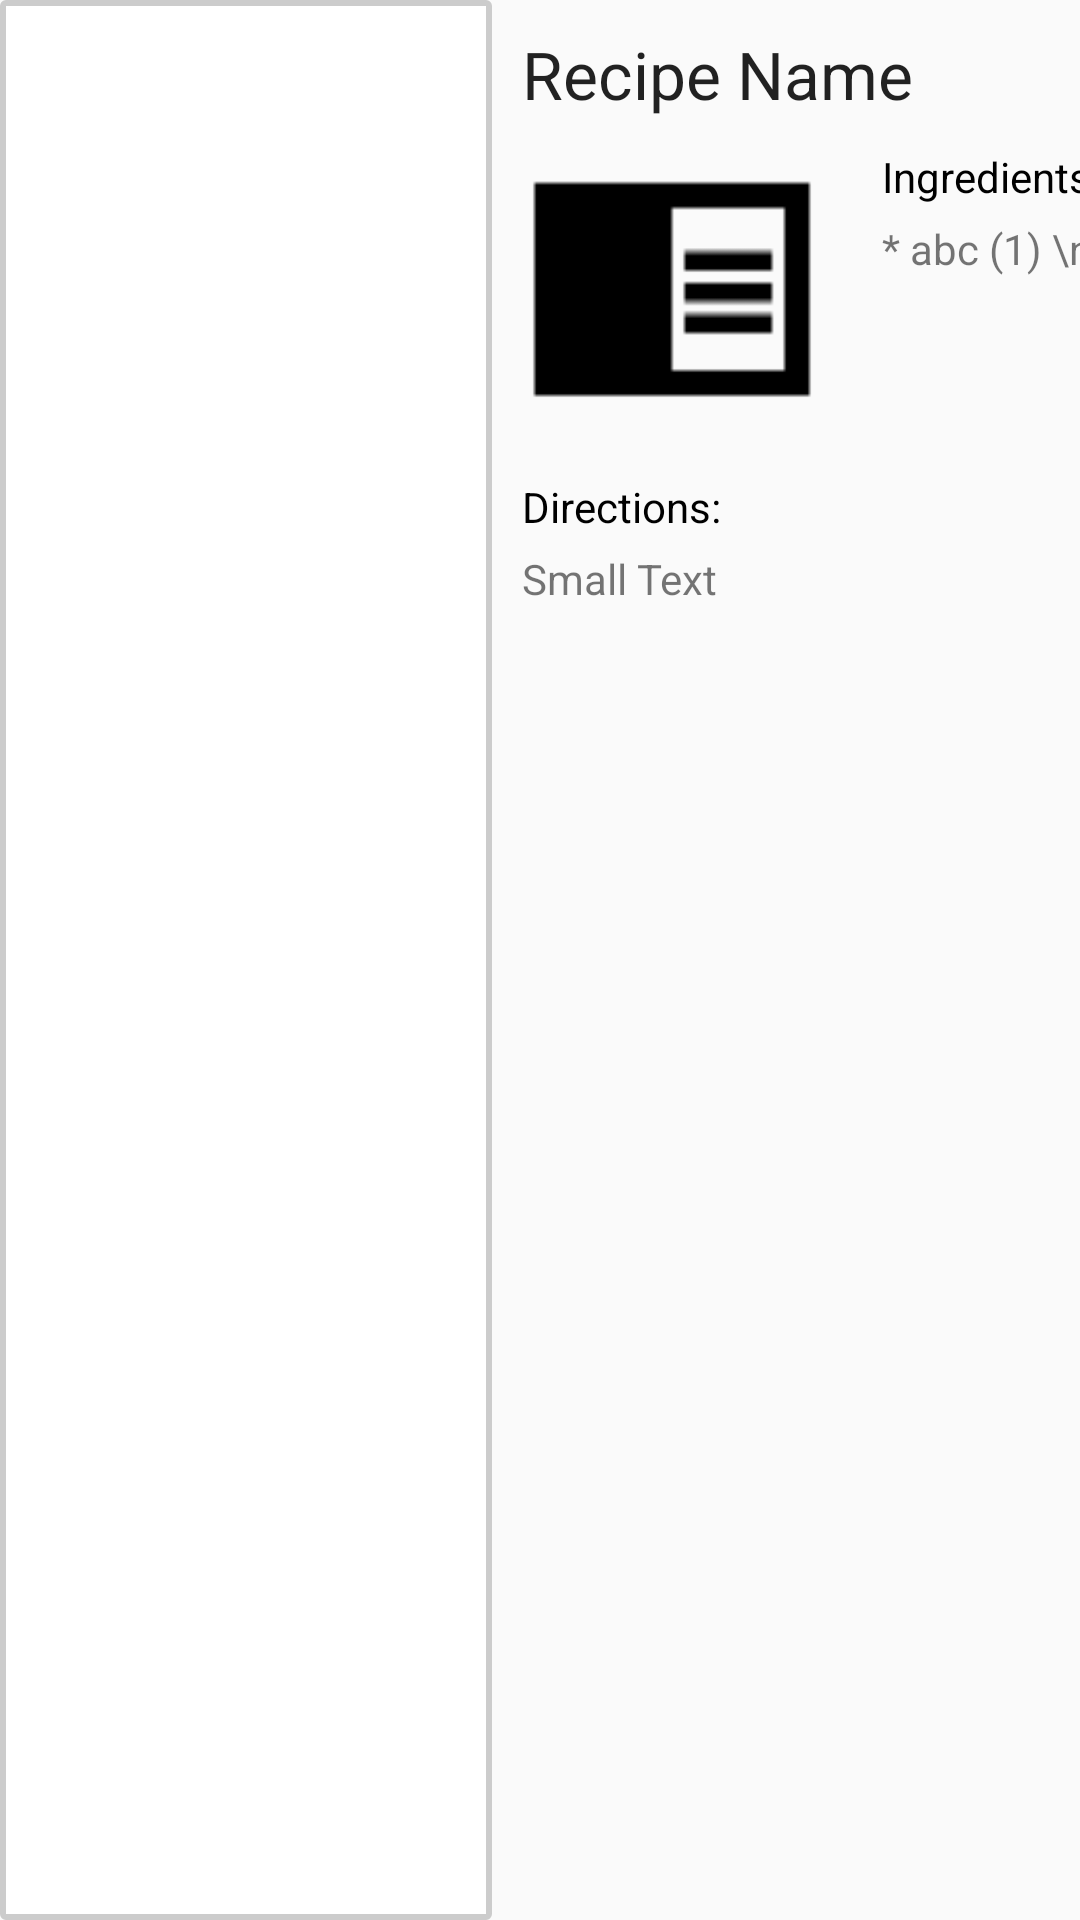

Screen size 1080x1920. Icon name, then its box in pixels as Rect(x1, y1, x2, y2):
chrome reader mode: Rect(533, 181, 811, 397)
